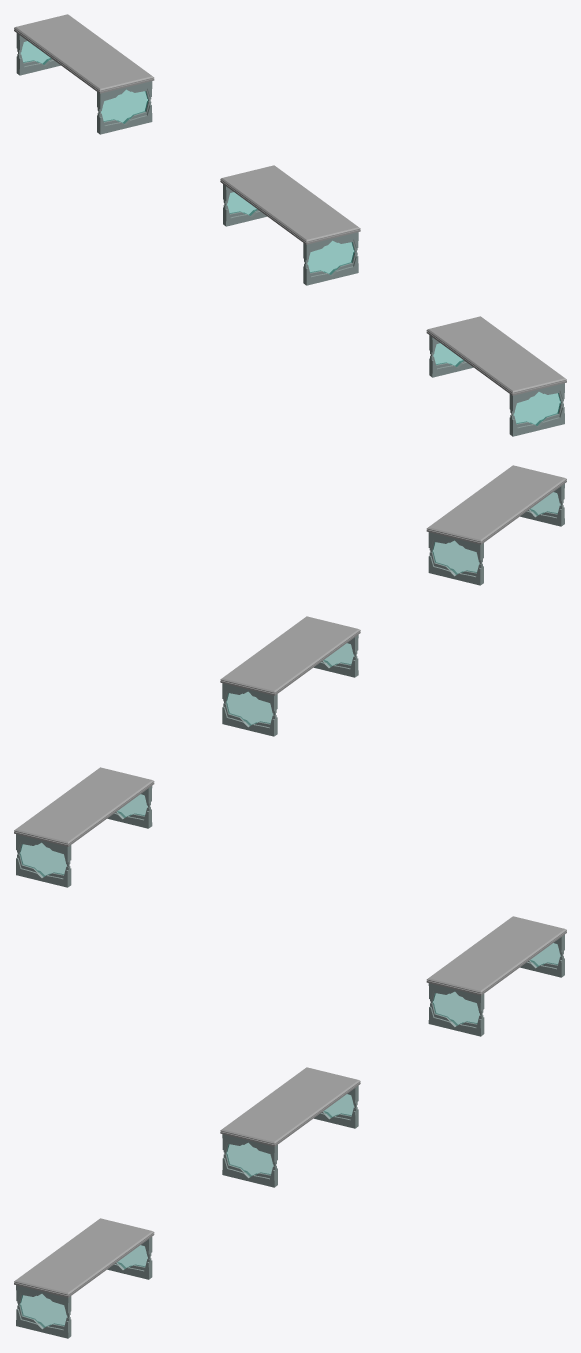
Rendered from geo_bank.fbx.
The picture shows the model from 3 angles, top to bottom: view 1: azimuth 30°, elevation 25°; view 2: azimuth 150°, elevation 25°; view 3: azimuth 330°, elevation 25°; orthographic projection.
Parts seen in each view (by area): view 1: geo_bank; view 2: geo_bank; view 3: geo_bank.
Part boxes in pixels (x1,y1,x2,y2): geo_bank: [14, 14, 566, 436]; geo_bank: [14, 465, 566, 887]; geo_bank: [14, 916, 566, 1338].
Size of the model in its own units: 71.52 by 57.87 by 1135.
